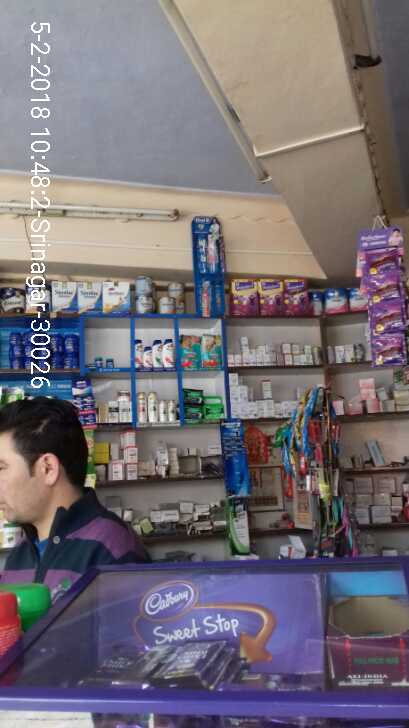beauty: (131, 335, 175, 369)
pharmacy: (177, 334, 222, 369)
